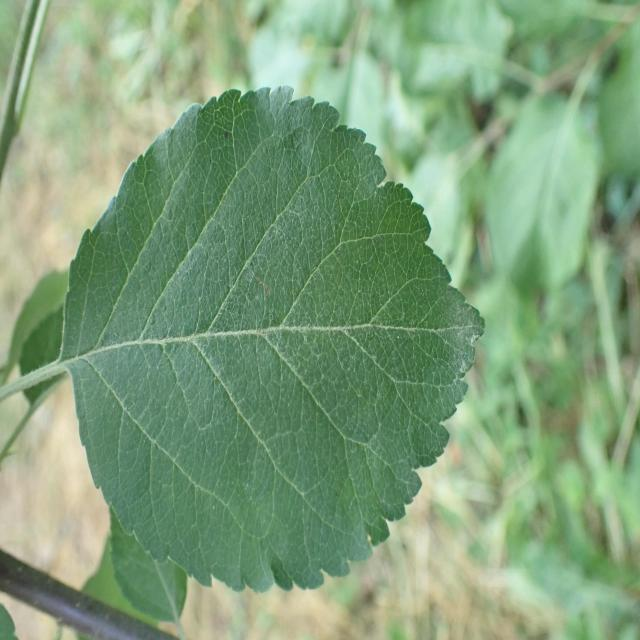healthy: (61, 84, 487, 593)
